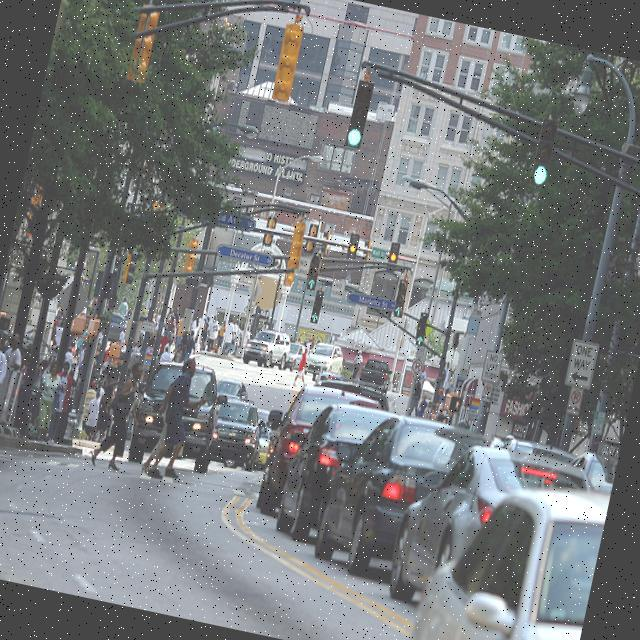fire_hydrant: (62, 411, 78, 446)
